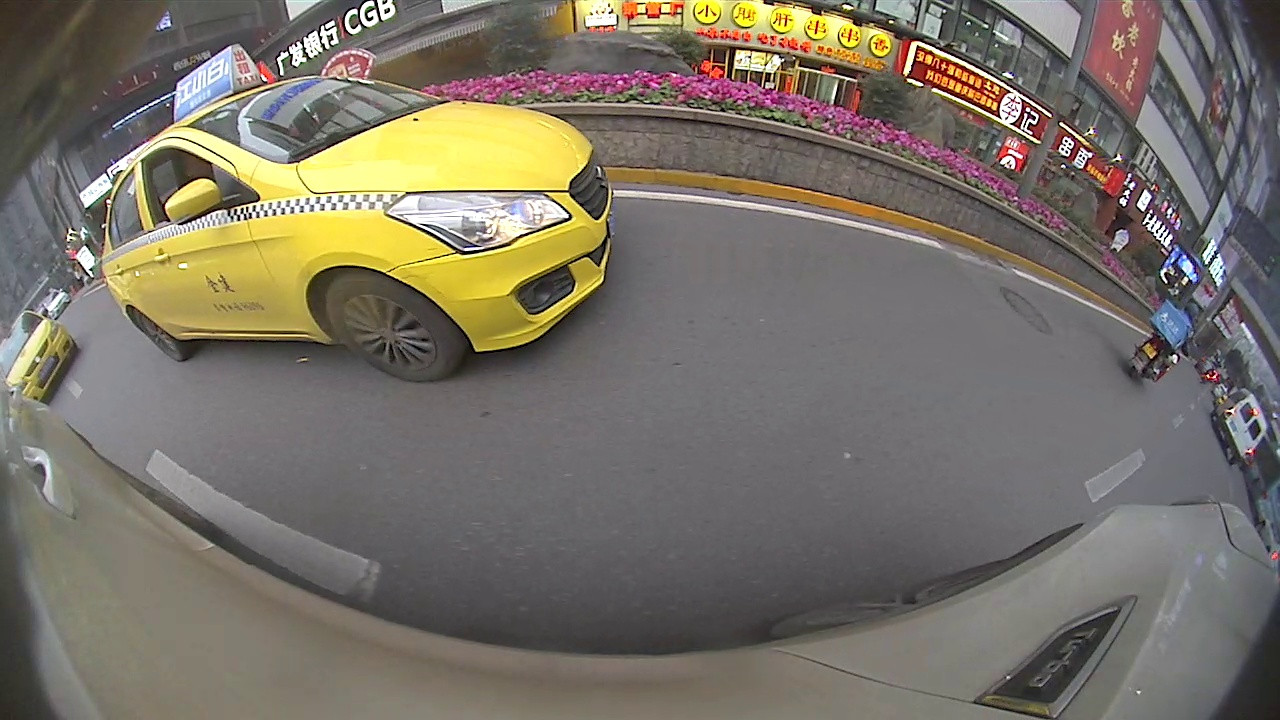car: (98, 41, 616, 384), (2, 309, 79, 401), (1211, 389, 1268, 465)
front: (321, 275, 458, 380)
rear: (126, 310, 184, 362)
rider: (1123, 297, 1202, 383)
